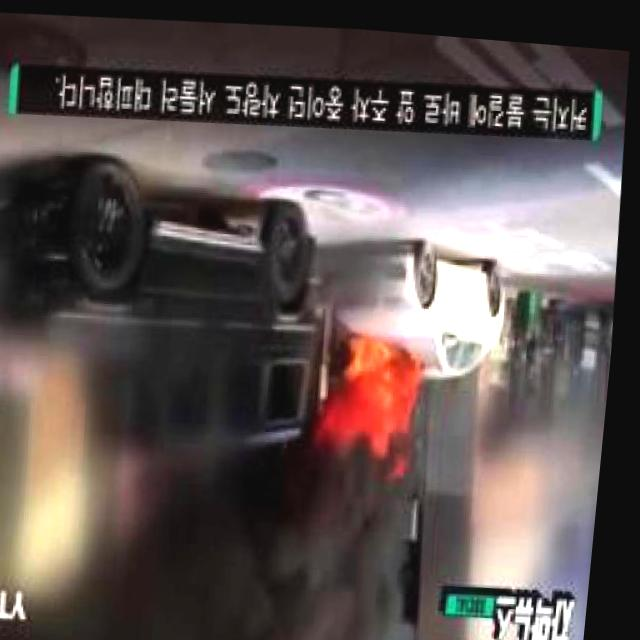helmet: (340, 327, 427, 429)
no_helmet: (234, 423, 445, 640)
